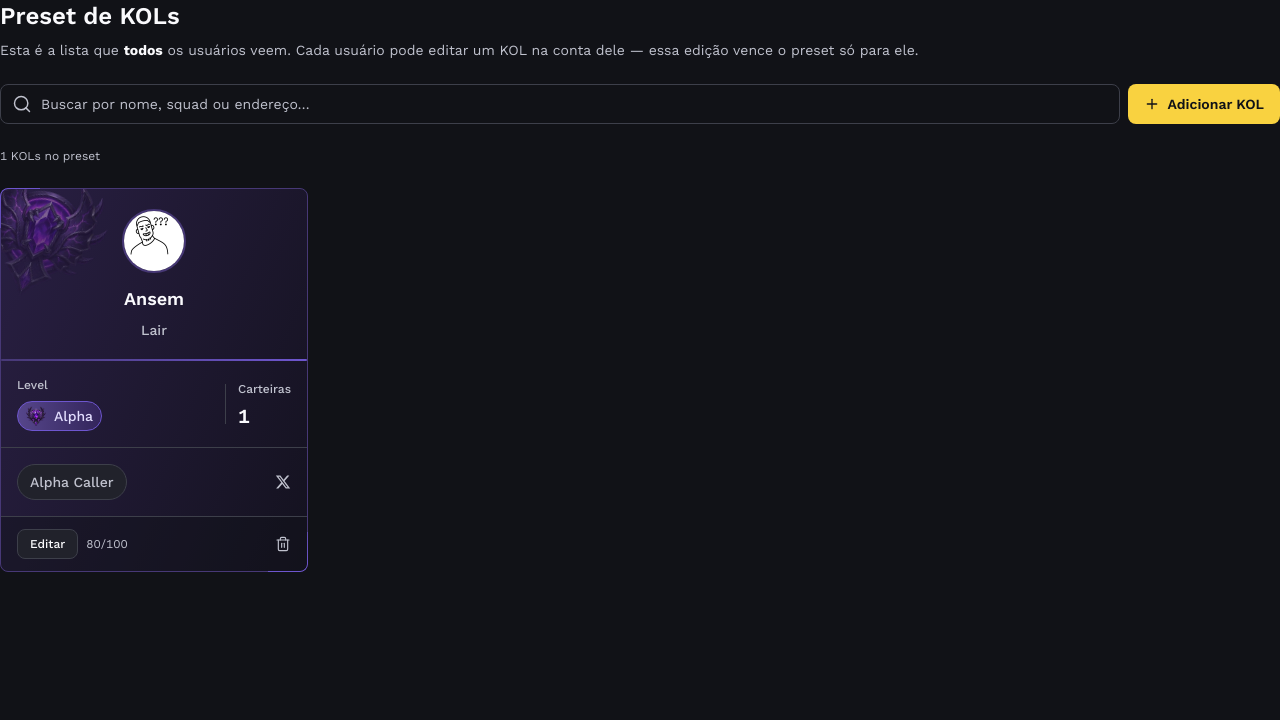
Test case: KolsAdmin — salvar › mostra a descrição salva ao reabrir o editor, sem recarregar a página
This screenshot has width=1280, height=720.
Click the button named "Abrir Ansem" at [154, 380], box 1,189 -> 307,571
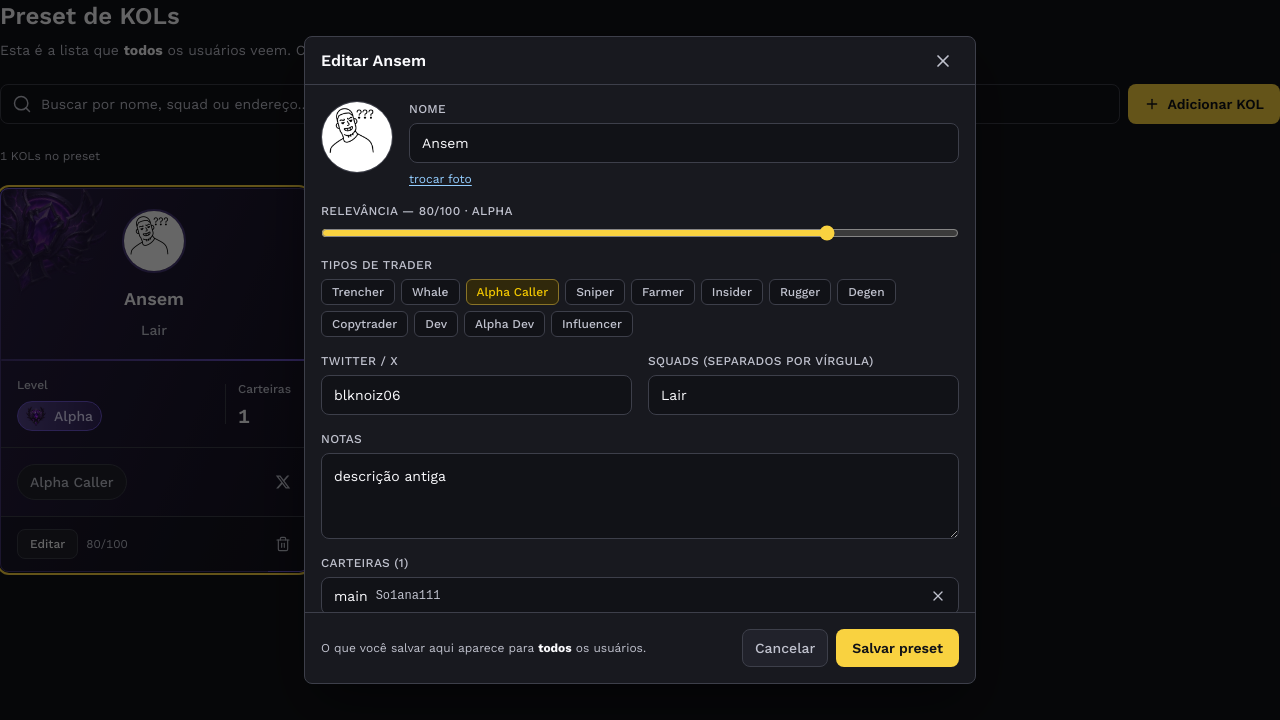
Replace the text in the text box labelled "Notas" with "descrição nova" at [640, 496], box 321,453 -> 959,539
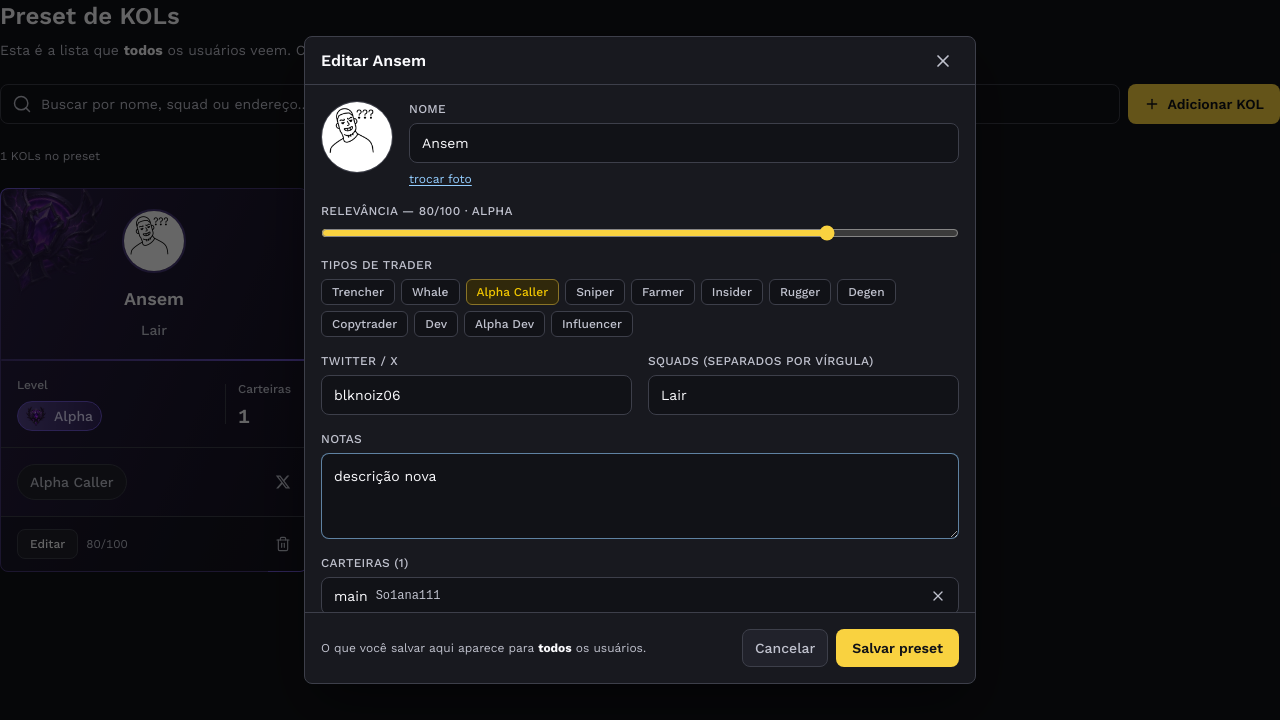
Click the button "Salvar preset" at [898, 648], box 836,629 -> 959,667
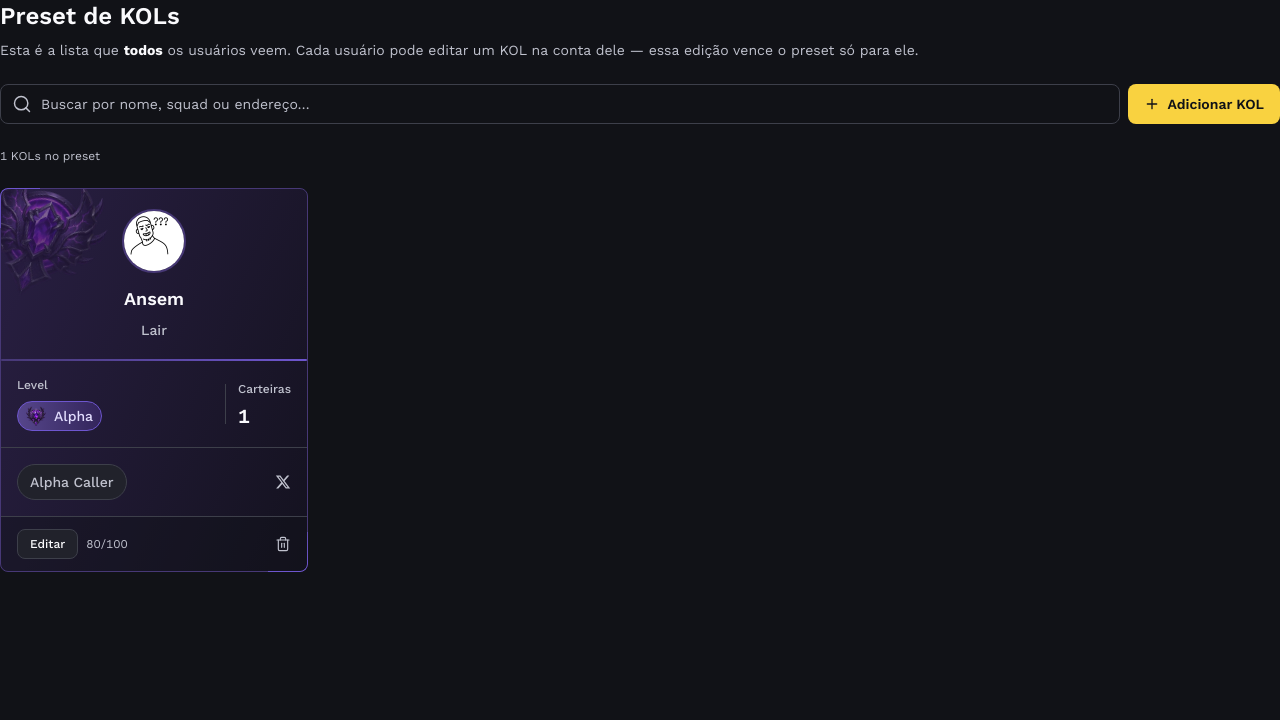
Expected: the button "Salvar preset" is gone
Click the button named "Abrir Ansem" at [154, 380], box 1,189 -> 307,571
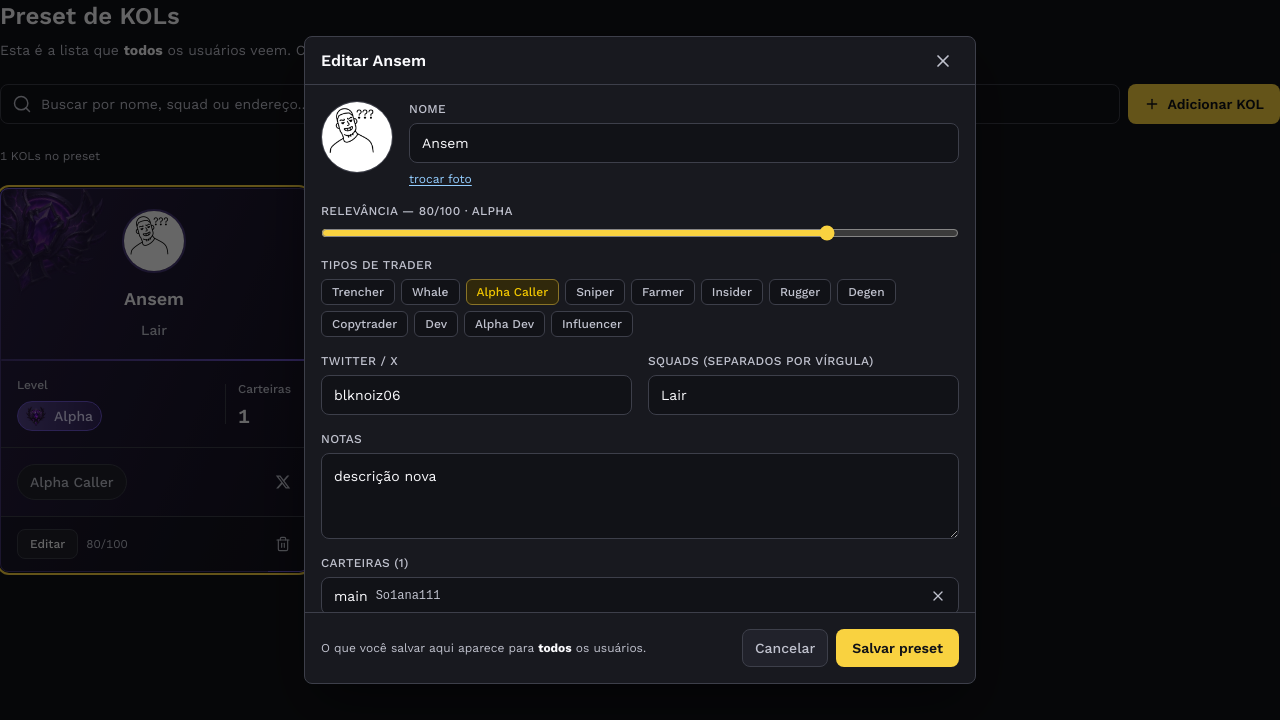
Expected: the text box labelled "Notas" holds "descrição nova", 321,453 -> 959,539
